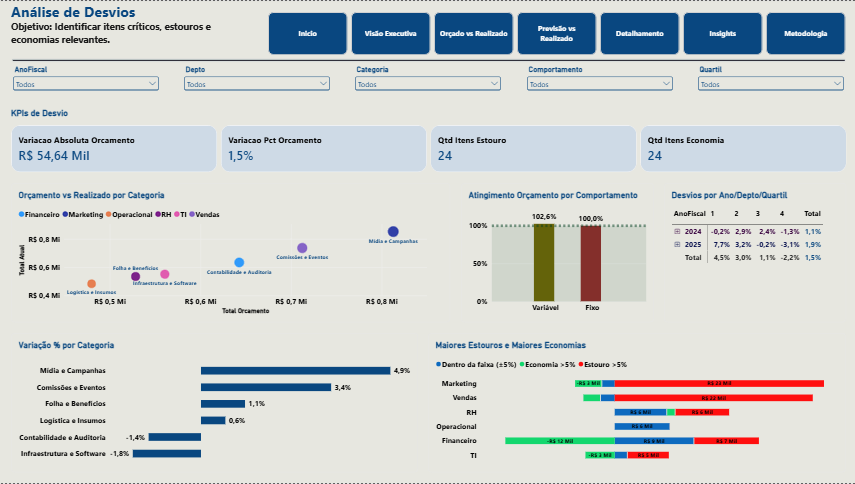

Layout of this report page (visuals, bound fields, positions):
{"tool":"powerbi","page":{"name":"Análise de Desvios","canvas":[1920,1080],"ordinal":3},"visuals":[{"type":"textbox","box":[24,0,552,120],"z":0},{"type":"pageNavigator","title":"Áreas de Análise:","box":[600,24,1296,96],"z":1000},{"type":"shape","box":[24,120,1872,24],"z":2000},{"type":"slicer","fields":{"Values":["FatoOrcamento.AnoFiscal"]},"box":[24,144,336,72],"z":3000},{"type":"slicer","fields":{"Values":["FatoOrcamento.Quartil"]},"box":[1560,144,336,72],"z":4000},{"type":"slicer","fields":{"Values":["FatoOrcamento.Depto"]},"box":[408,144,336,72],"z":5000},{"type":"slicer","fields":{"Values":["FatoOrcamento.Comportamento"]},"box":[1176,144,336,72],"z":6000},{"type":"slicer","fields":{"Values":["FatoOrcamento.Categoria"]},"box":[792,144,336,72],"z":7000},{"type":"cardVisual","title":"KPIs de Desvio","fields":{"Data":["Medidas.Variacao Absoluta Orcamento","Medidas.Variacao Pct Orcamento","Medidas.Qtd Itens Estouro","Medidas.Qtd Itens Economia"]},"box":[24,240,1872,144],"z":7001},{"type":"scatterChart","title":"Orçamento vs Realizado por Categoria","fields":{"Category":["FatoOrcamento.Categoria"],"Series":["FatoOrcamento.Depto"],"Size":["Medidas.Total Orcamento"],"X":["Medidas.Total Orcamento"],"Y":["Medidas.Total Atual"]},"box":[24,408,984,312],"z":7002},{"type":"barChart","title":"Variação % por Categoria","fields":{"Category":["FatoOrcamento.Categoria"],"Y":["Medidas.Variacao Pct Orcamento"]},"box":[24,744,912,312],"z":7003},{"type":"columnChart","title":"Atingimento Orçamento por Comportamento","fields":{"Category":["FatoOrcamento.Comportamento"],"Y":["Medidas.Atingimento Orcamento %"]},"box":[1032,408,432,312],"z":7004},{"type":"barChart","title":"Maiores Estouros e Maiores Economias","fields":{"Category":["FatoOrcamento.Depto"],"Series":["FatoOrcamento.StatusOrcamento"],"Y":["Medidas.Variacao Absoluta Previsao"]},"box":[960,744,936,312],"z":7005},{"type":"pivotTable","title":"Desvios por Ano/Depto/Quartil","fields":{"Columns":["FatoOrcamento.Quartil"],"Rows":["FatoOrcamento.AnoFiscal","FatoOrcamento.Depto"],"Values":["Medidas.Variacao Pct Orcamento"]},"box":[1488,408,408,312],"z":7006}]}

Visuals, with their boxes in screenshot pixels (x1, y1, x2, y2), scaled from the page's 1920x1080 canvas onto the 855x484 screenshot:
textbox: 11,0,256,54
"Áreas de Análise:" pageNavigator: 267,11,844,54
shape: 11,54,844,65
slicer - FatoOrcamento.AnoFiscal: 11,65,160,97
slicer - FatoOrcamento.Quartil: 695,65,844,97
slicer - FatoOrcamento.Depto: 182,65,331,97
slicer - FatoOrcamento.Comportamento: 524,65,673,97
slicer - FatoOrcamento.Categoria: 353,65,502,97
"KPIs de Desvio" cardVisual: 11,108,844,172
"Orçamento vs Realizado por Categoria" scatterChart: 11,183,449,323
"Variação % por Categoria" barChart: 11,333,417,473
"Atingimento Orçamento por Comportamento" columnChart: 460,183,652,323
"Maiores Estouros e Maiores Economias" barChart: 428,333,844,473
"Desvios por Ano/Depto/Quartil" pivotTable: 663,183,844,323
